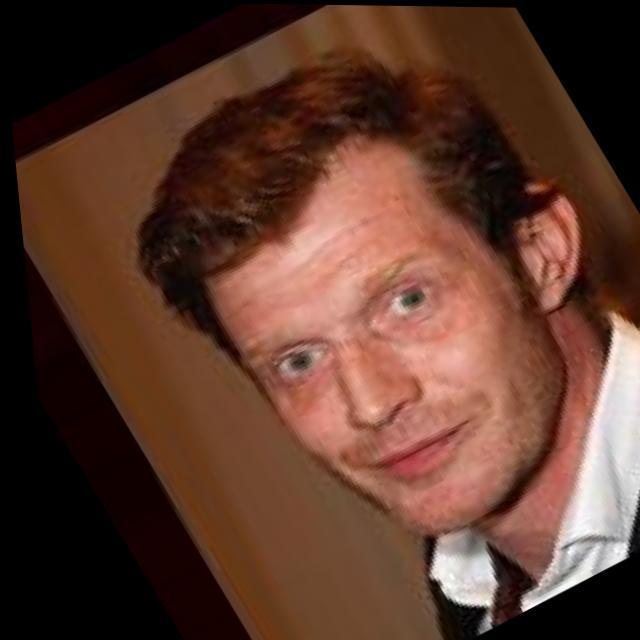Nonhelmet: (120, 29, 585, 538)
